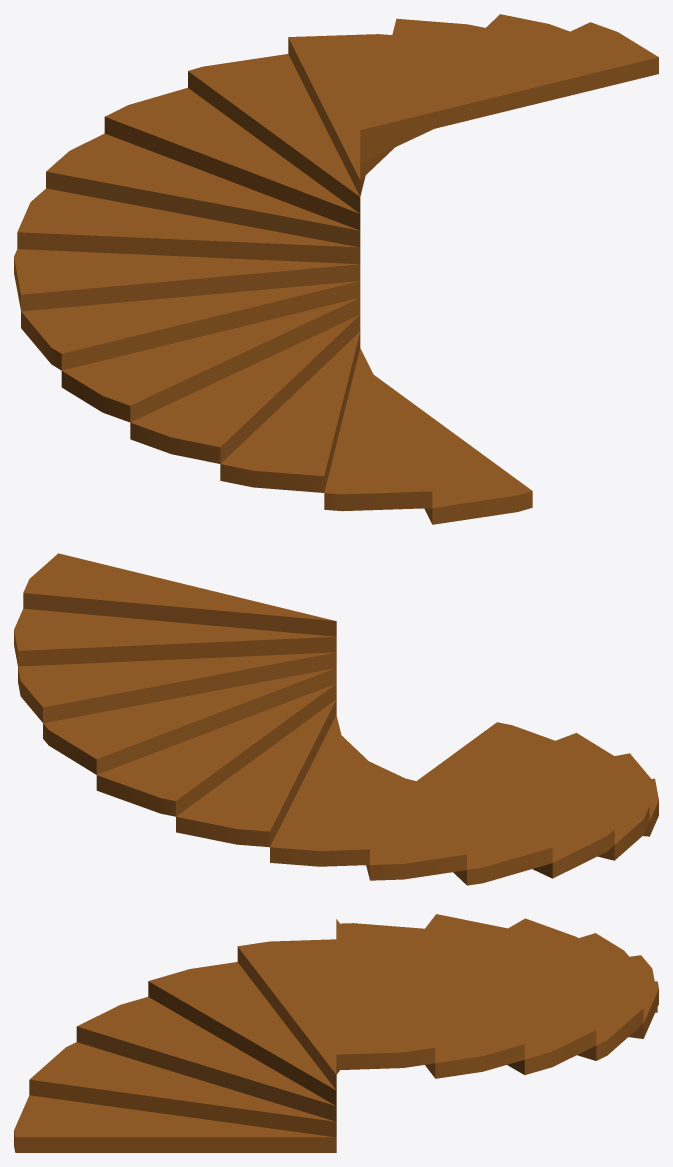
The model's file is Dungeon_Stairs_Large_Full_Timber_01.fbx.
The picture shows the model from 3 angles, top to bottom: view 1: azimuth 30°, elevation 25°; view 2: azimuth 150°, elevation 25°; view 3: azimuth 270°, elevation 25°; orthographic projection. The views are drawn at different scales.
Parts seen in each view (by area): view 1: Model; view 2: Model; view 3: Model.
Part boxes in pixels (x1=…): Model: x1=14, y1=14, x2=658, y2=524; Model: x1=14, y1=553, x2=658, y2=885; Model: x1=14, y1=914, x2=658, y2=1152.
Bounding box in the file's own units: 592 × 238 × 594.
